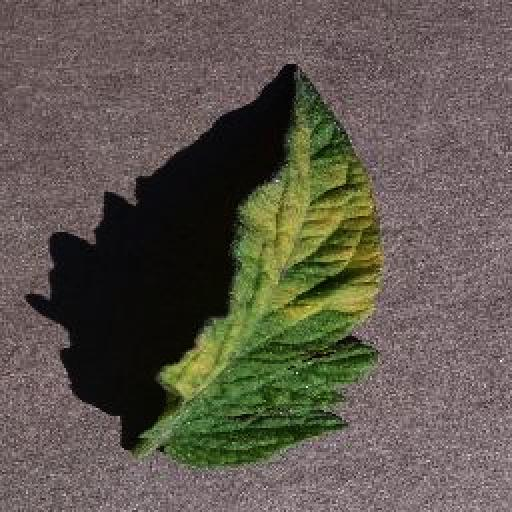disease_tomato: (151, 62, 383, 466)
